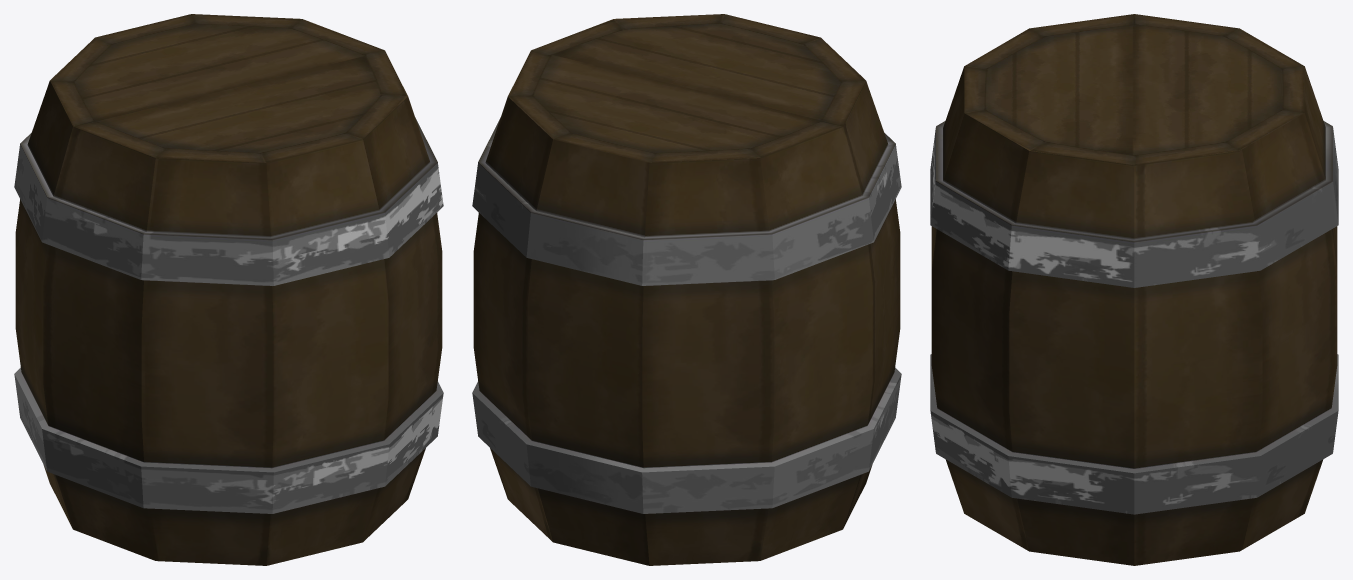
File: barril.fbx
The picture shows the model from 3 angles, left to right: view 1: azimuth 30°, elevation 25°; view 2: azimuth 150°, elevation 25°; view 3: azimuth 270°, elevation 25°; orthographic projection.
Visible parts, largest first — view 1: pCylinder1; view 2: pCylinder1; view 3: pCylinder1.
Part boxes in pixels (left/top/right/bottom): pCylinder1: left=14, top=14, right=443, bottom=565; pCylinder1: left=472, top=14, right=901, bottom=565; pCylinder1: left=930, top=14, right=1338, bottom=565.
Size of the model in its own units: 5.83 by 6 by 5.54.
